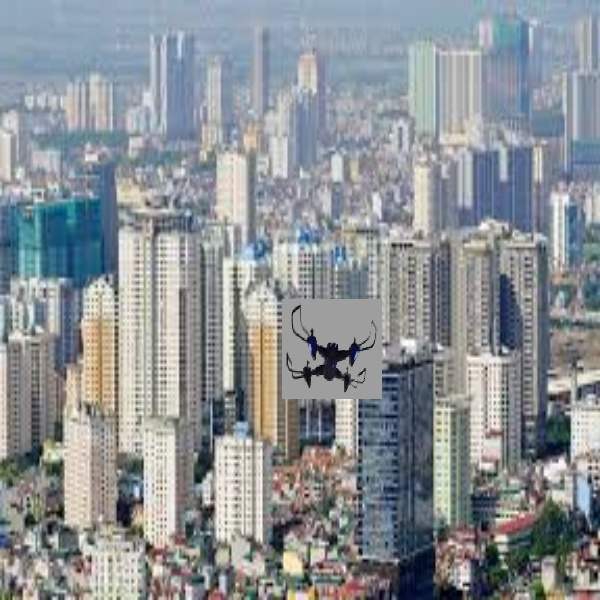drone: (285, 303, 381, 393)
